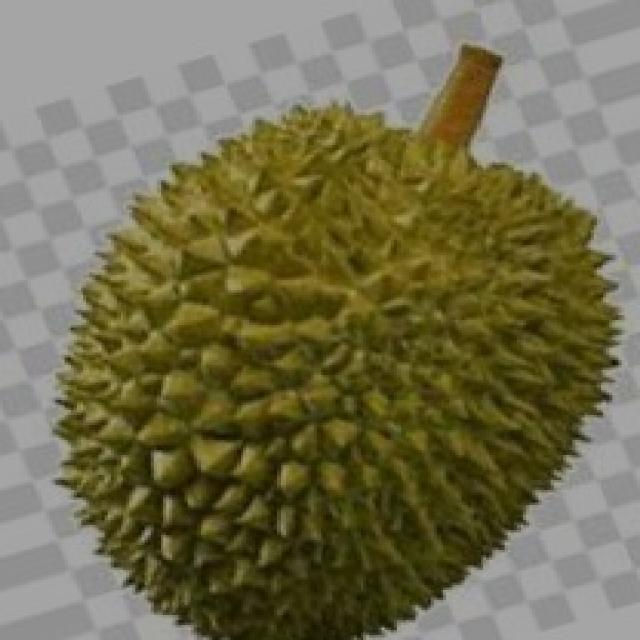fruit: (258, 228, 640, 638), (6, 280, 369, 640)
